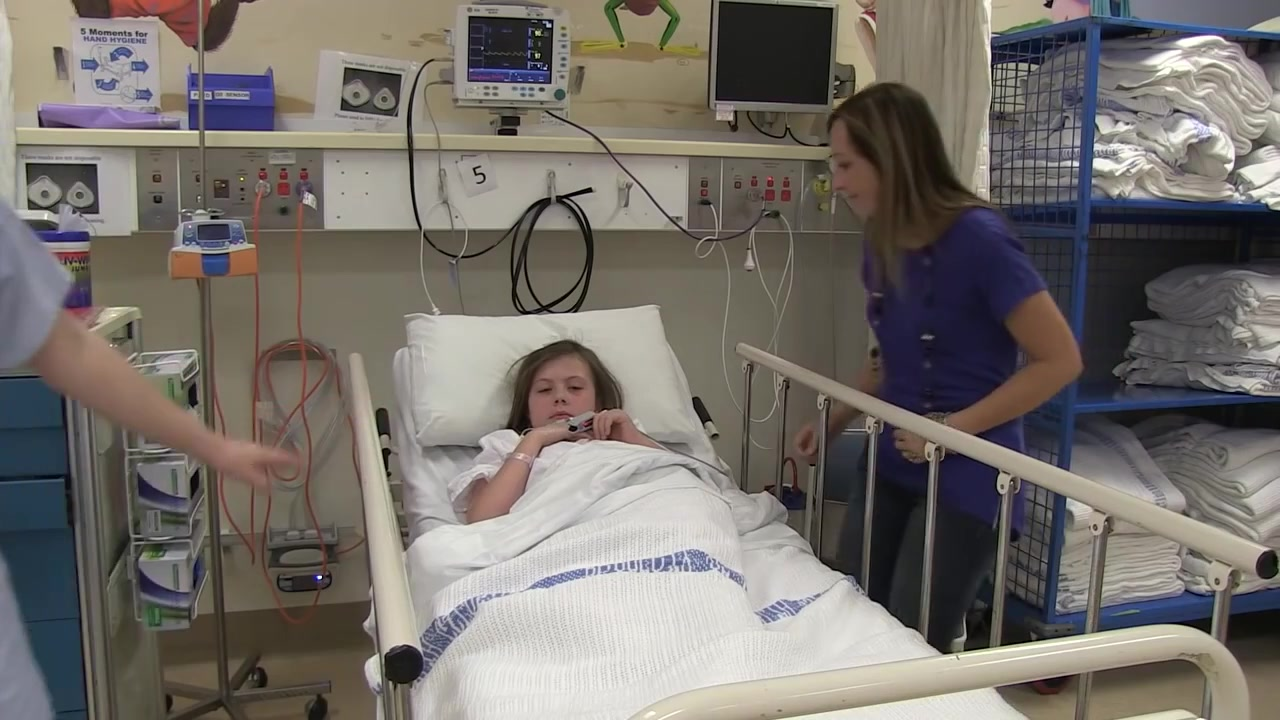bedrail: (733, 340, 1280, 720), (348, 352, 427, 720)
bedside_monitor: (705, 1, 839, 114), (451, 1, 569, 116)
curtain: (857, 1, 993, 200)
foot_board: (627, 622, 1251, 720)
hospital_bed: (345, 301, 1280, 720)
iv_pole: (192, 3, 240, 692)
medical_drawer: (1, 304, 144, 718)
patient: (462, 337, 736, 681)
person: (1, 174, 302, 719)
syringe_pump: (167, 211, 259, 281)
visitor: (797, 80, 1083, 655)
